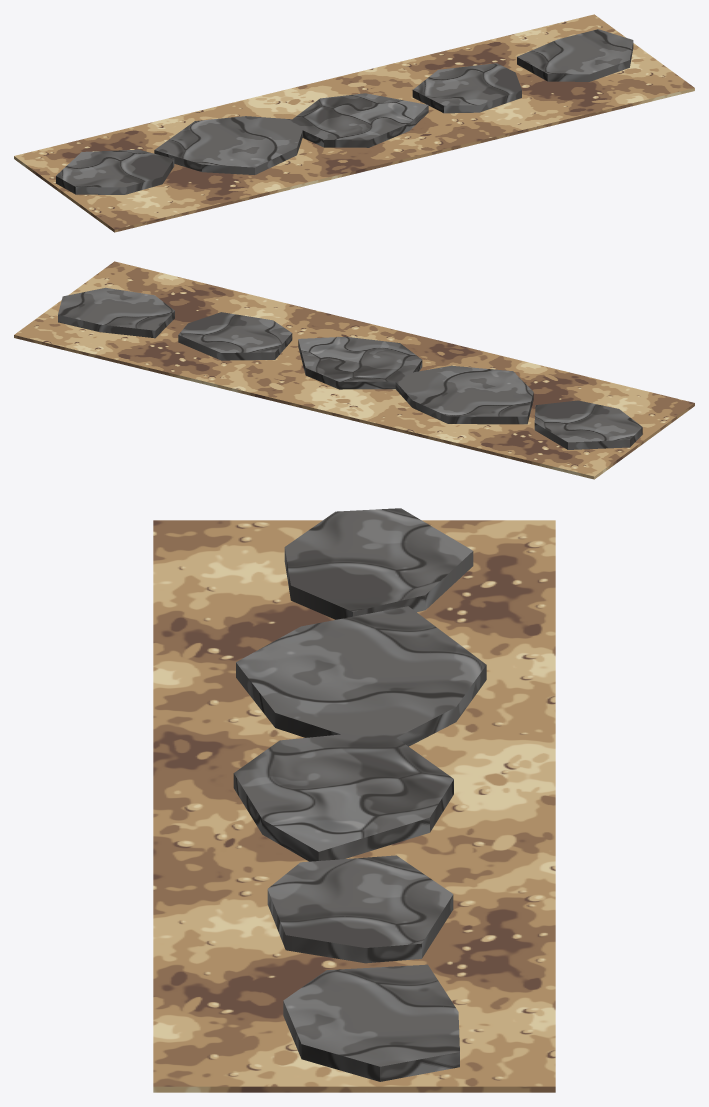
File: path_straight.glb
3 renders of one model, top to bottom at view 1: azimuth 30°, elevation 25°; view 2: azimuth 150°, elevation 25°; view 3: azimuth 270°, elevation 25°, orthographic. The views are drawn at different scales.
Visible parts, largest first — view 1: Ground; view 2: Ground; view 3: Ground.
Boxes of the visible parts, <box> form: Ground: <box>14,14,694,232</box>; Ground: <box>14,261,694,479</box>; Ground: <box>153,508,555,1092</box>.
Bounding box in the file's own units: 4 × 0.07 × 1.2.
2 materials, 2 textured.
